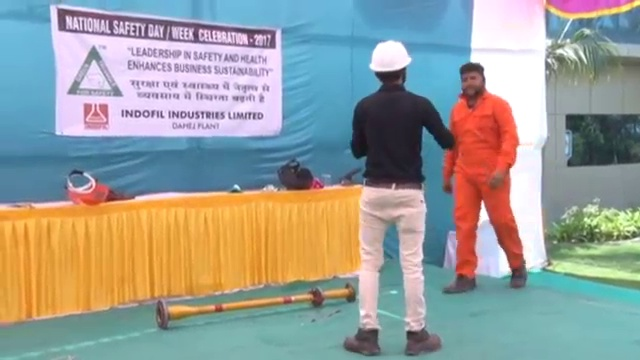helmet: (368, 39, 414, 74)
helmet_off: (459, 62, 487, 98)
helmet_on: (365, 38, 416, 90)
person: (344, 38, 443, 357), (444, 61, 532, 288)
